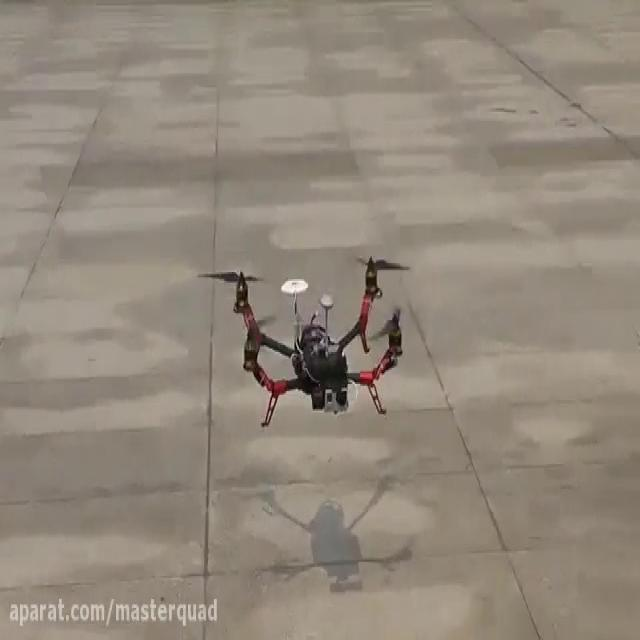drone: (192, 249, 418, 432)
